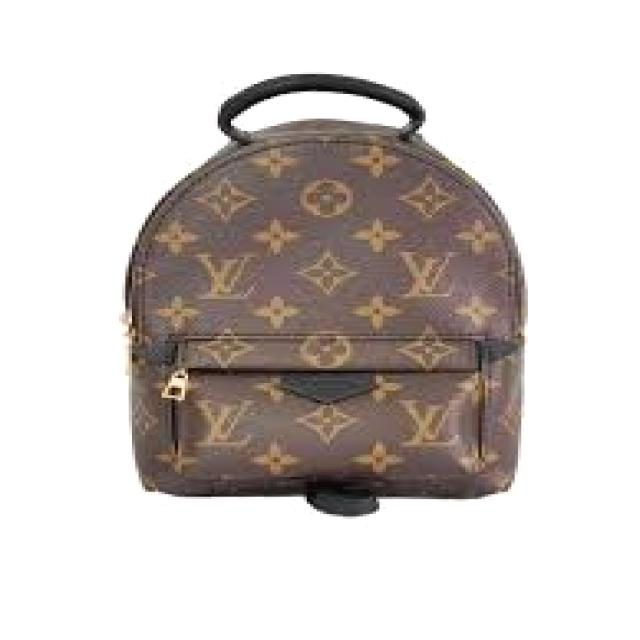backpack: (120, 73, 529, 515)
